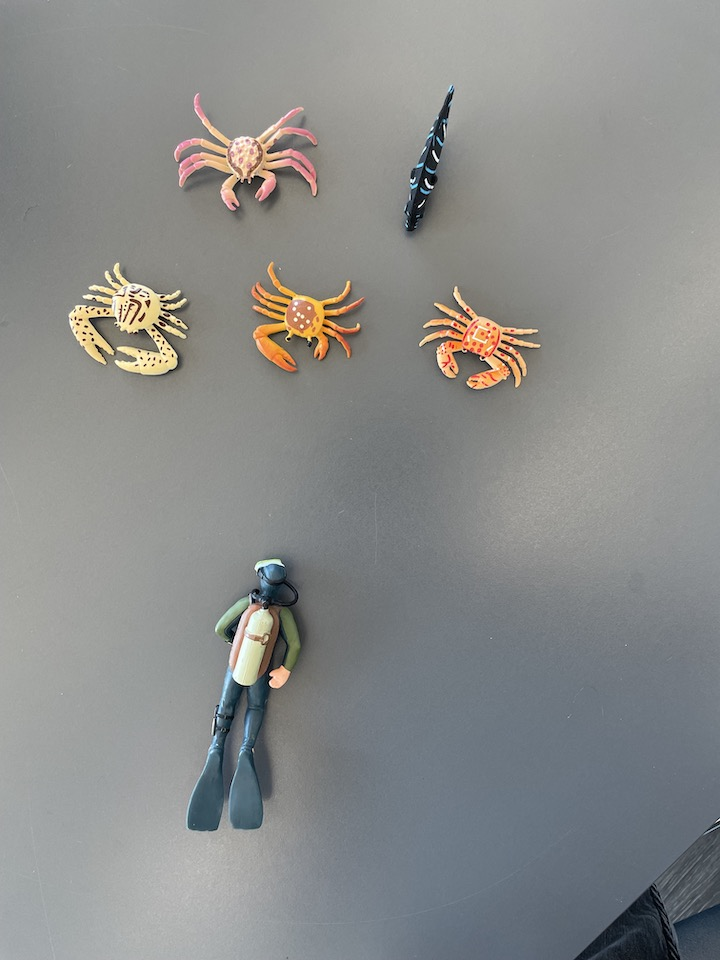crab: (167, 89, 326, 218), (63, 261, 194, 381), (413, 282, 546, 399), (250, 262, 372, 380)
diver: (183, 556, 305, 833)
fish: (401, 83, 451, 236)
